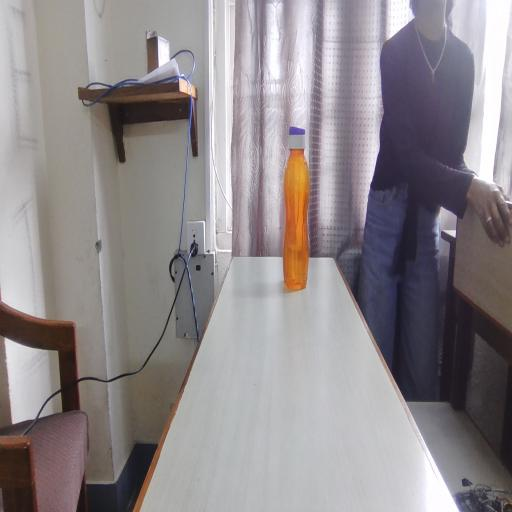Bottle: (271, 123, 352, 307)
